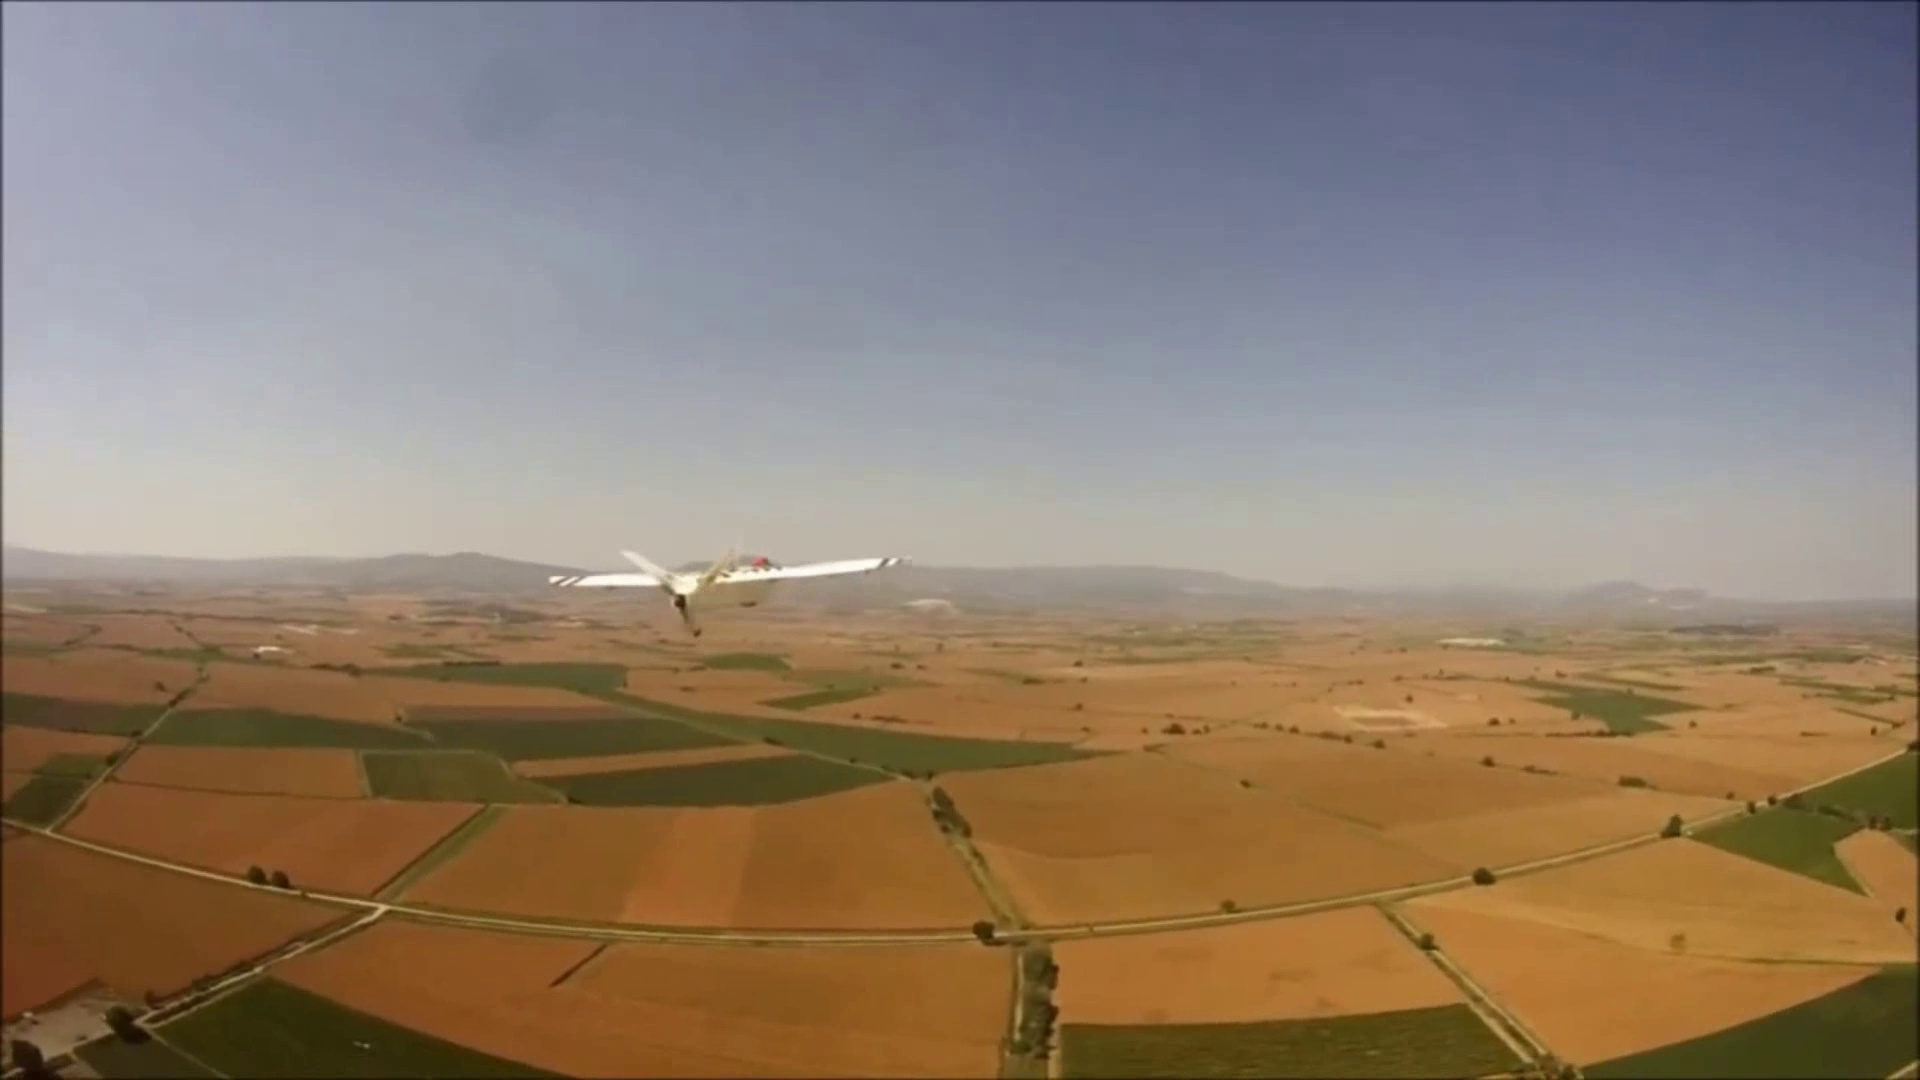airplane: (11, 742, 1687, 1065), (516, 542, 895, 642)
